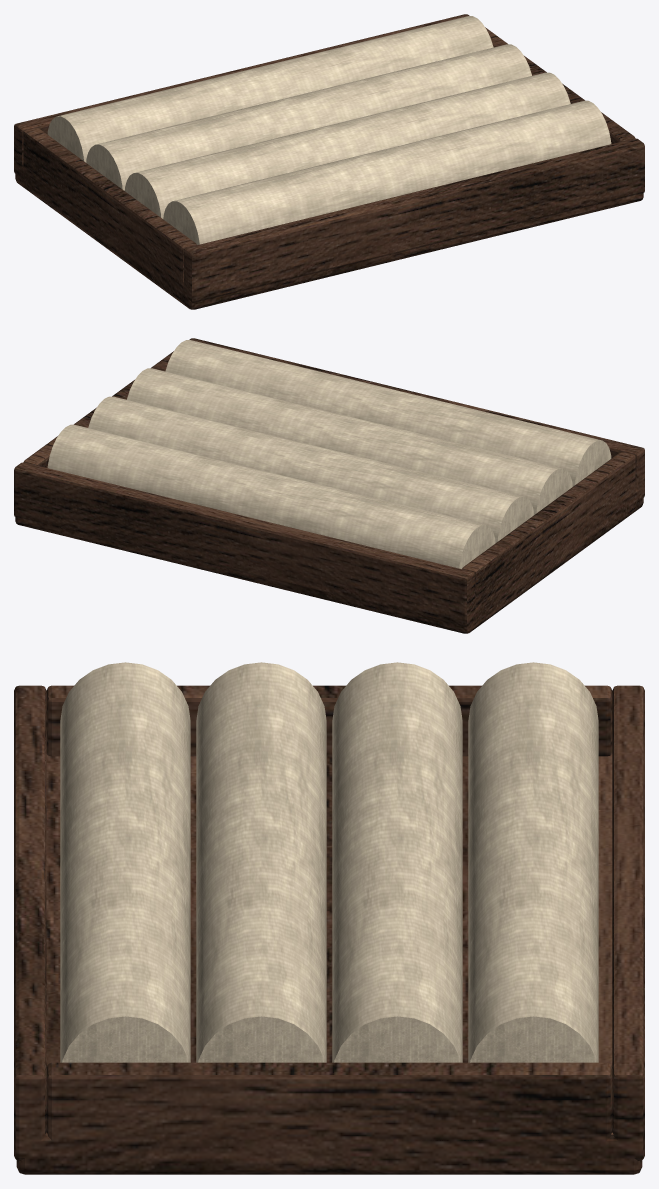
File: RingTray_Hero.obj
3 views of the same model, one above another, from view 1: azimuth 30°, elevation 25°; view 2: azimuth 150°, elevation 25°; view 3: azimuth 270°, elevation 25° (orthographic). The views are drawn at different scales.
Parts seen in each view (by area): view 1: RingTray_Hero_Opaque; view 2: RingTray_Hero_Opaque; view 3: RingTray_Hero_Opaque.
Boxes of the visible parts, left/top/right/bottom form: RingTray_Hero_Opaque: left=14, top=14, right=644, bottom=309; RingTray_Hero_Opaque: left=14, top=338, right=644, bottom=633; RingTray_Hero_Opaque: left=14, top=662, right=644, bottom=1174.
Size of the model in its own units: 0.34 by 0.058 by 0.232.
2 materials, 2 textured.
